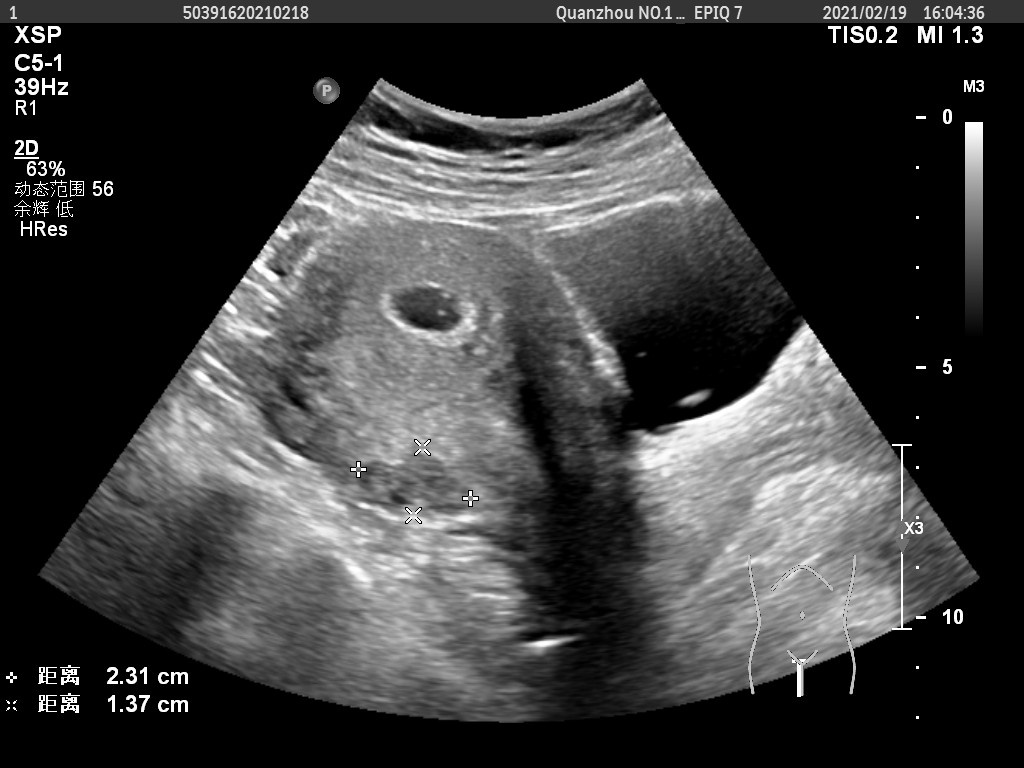肌瘤: (368, 457, 462, 512)
